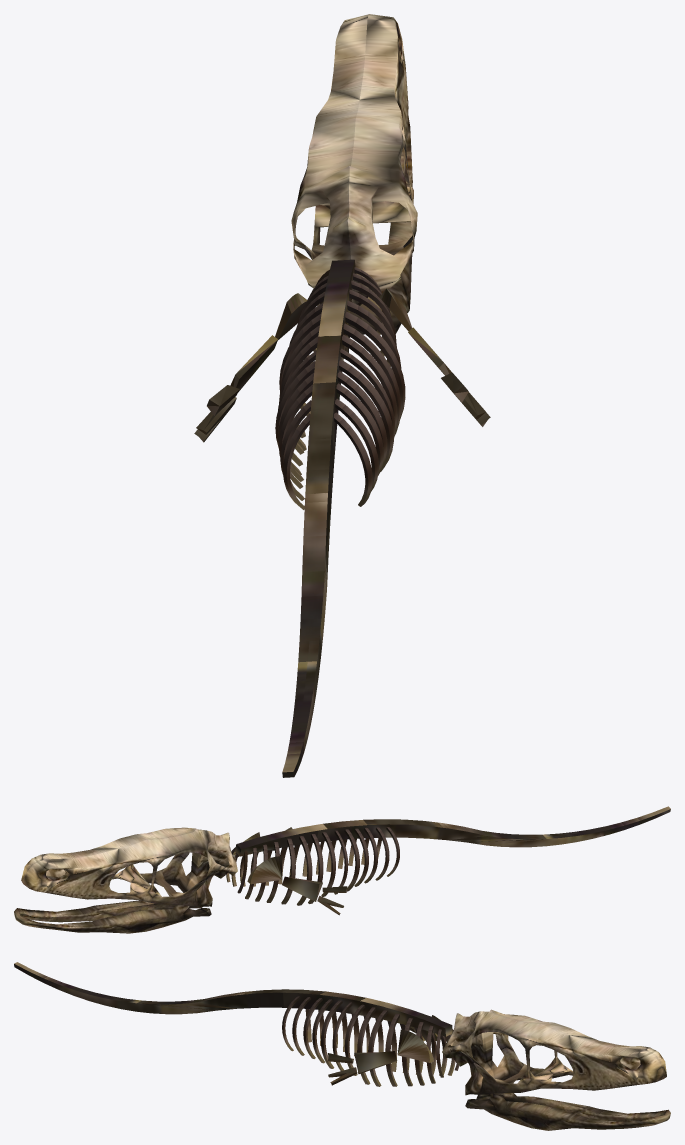
Rendered from animalBone1.fbx.
The picture shows the model from 3 angles, top to bottom: view 1: azimuth 30°, elevation 25°; view 2: azimuth 150°, elevation 25°; view 3: azimuth 270°, elevation 25°; orthographic projection. The views are drawn at different scales.
Visible parts, largest first — view 1: polySurface115; view 2: polySurface115; view 3: polySurface115.
Part boxes in pixels (bbox=[...]): polySurface115: bbox=[194, 14, 490, 777]; polySurface115: bbox=[14, 806, 670, 933]; polySurface115: bbox=[14, 962, 670, 1130].
Bounding box in the file's own units: 15.51 × 3.94 × 22.95.
Materials: 2 (2 with a texture image).
